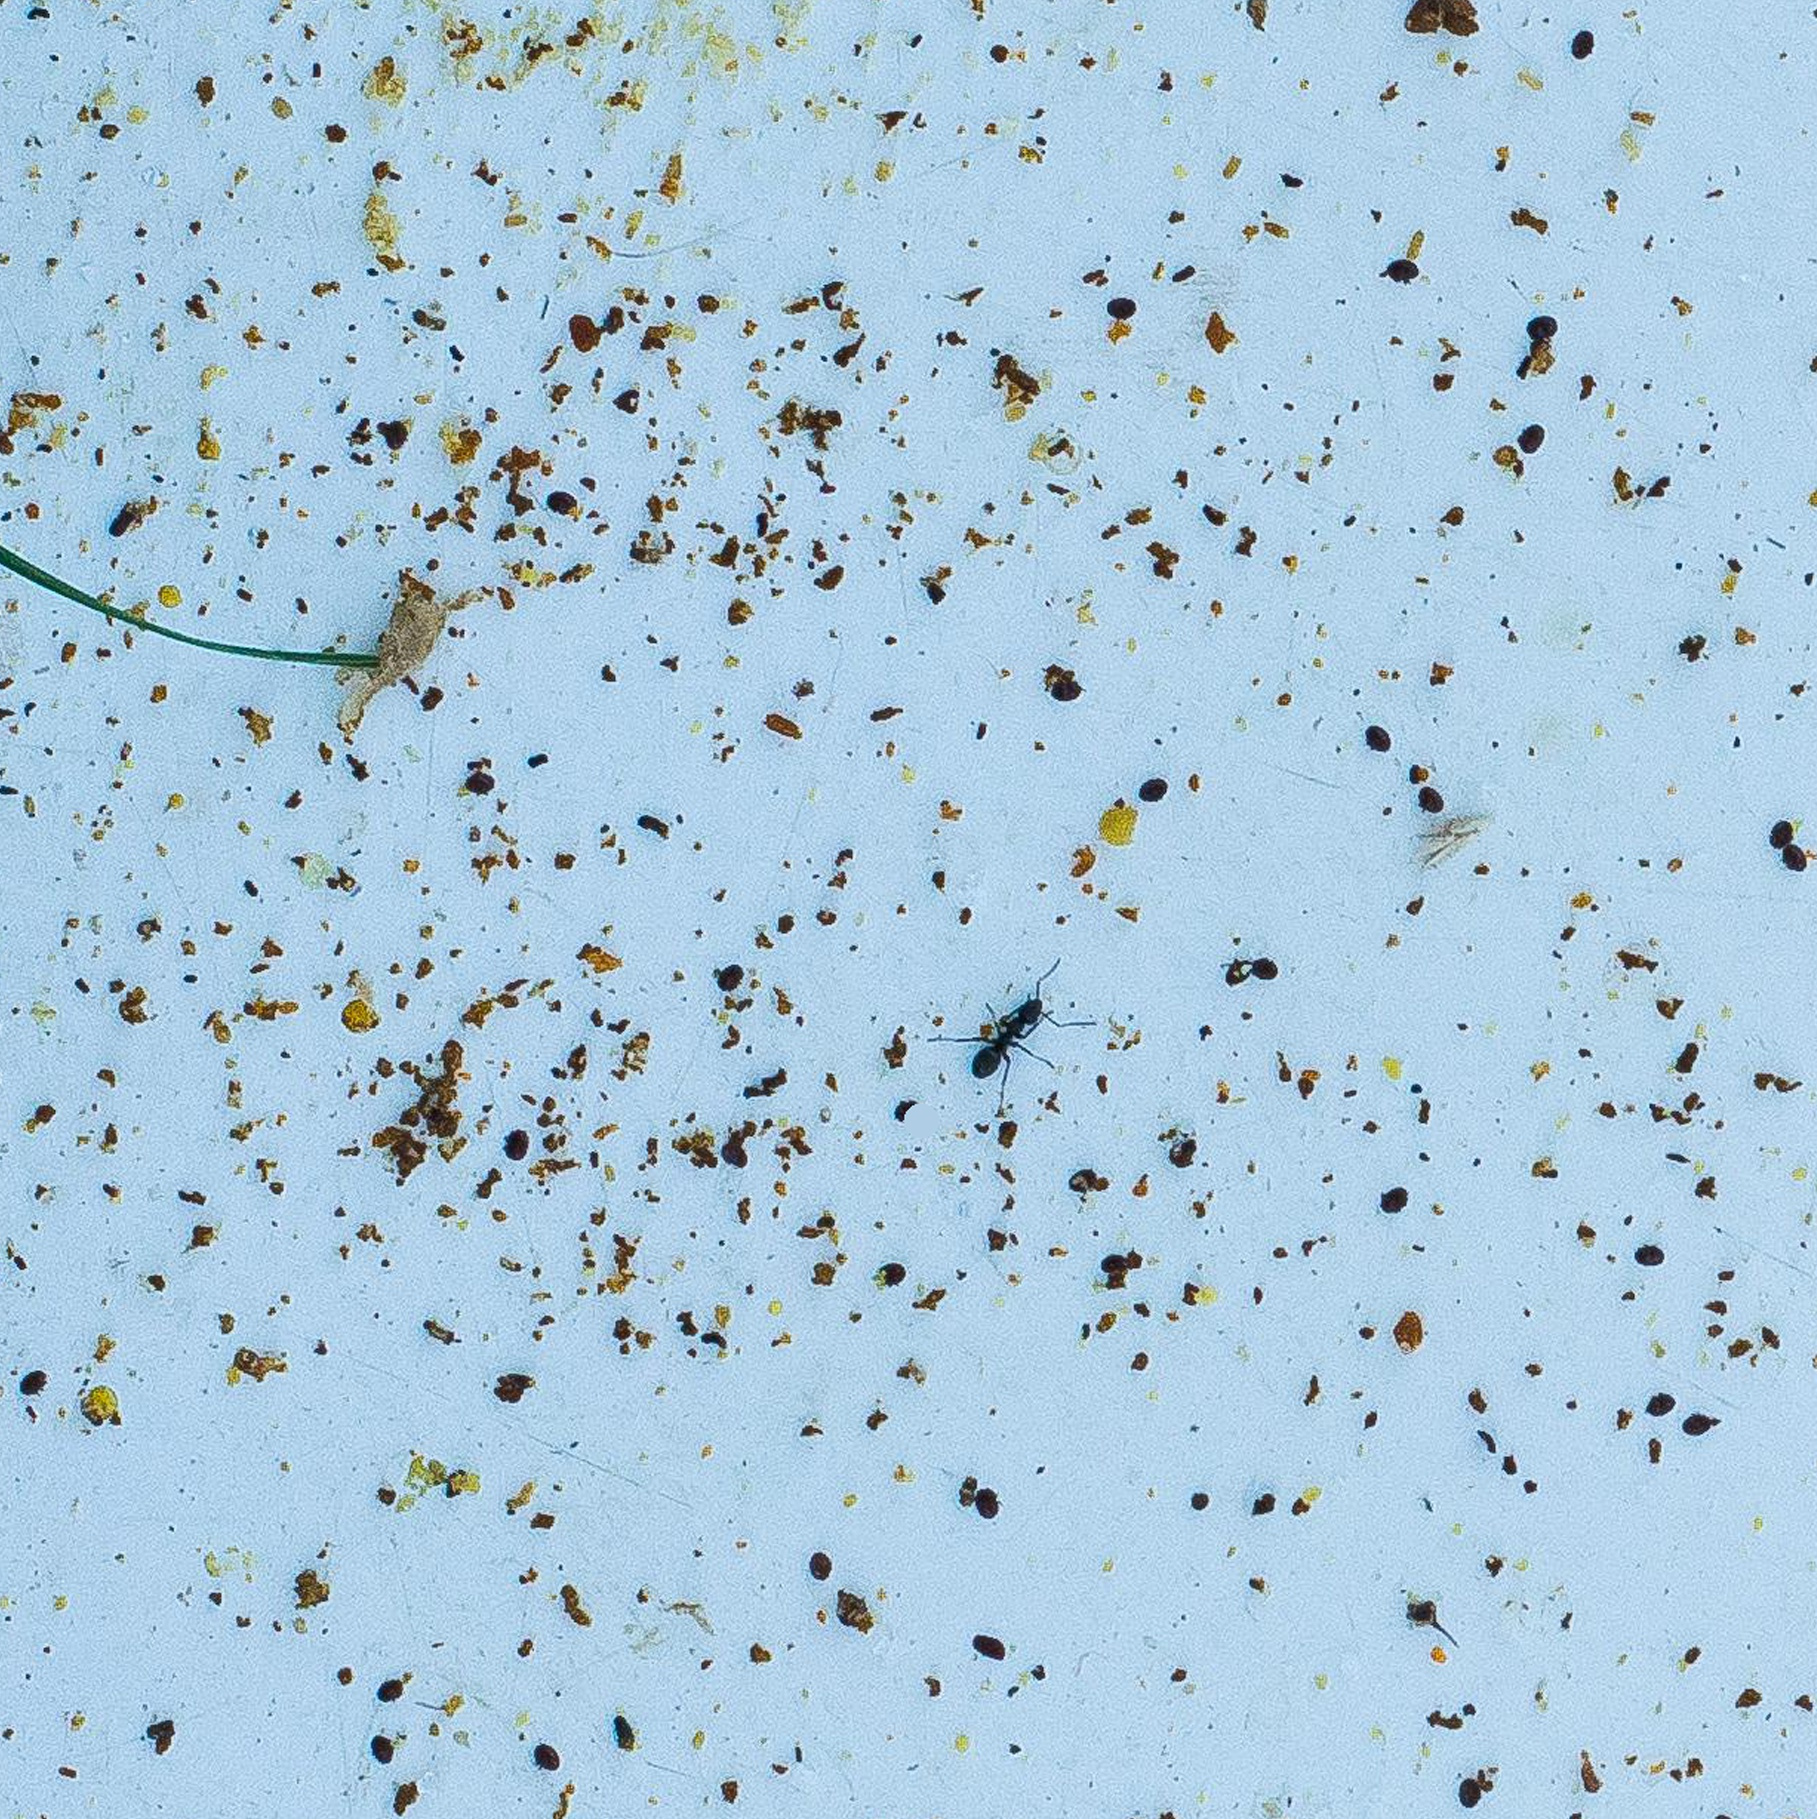Varroa: (458, 757, 503, 804), (1215, 949, 1260, 994), (714, 1132, 759, 1177), (1160, 1128, 1205, 1173), (1371, 1177, 1414, 1220), (1521, 316, 1557, 351), (710, 957, 745, 990), (1241, 950, 1275, 985), (1048, 671, 1082, 704), (1067, 1162, 1100, 1195), (879, 1255, 912, 1288), (373, 1669, 404, 1704), (1517, 423, 1551, 454), (890, 1093, 922, 1127), (544, 486, 576, 518), (1567, 30, 1599, 62), (1639, 1388, 1671, 1420), (1451, 1779, 1483, 1811), (1765, 815, 1795, 849), (1140, 771, 1170, 804), (503, 1130, 532, 1162), (972, 1486, 1002, 1518), (1384, 250, 1414, 281), (1414, 782, 1444, 814), (17, 1366, 47, 1396), (1363, 722, 1393, 752), (1682, 1411, 1712, 1441), (1098, 1248, 1128, 1278), (1775, 840, 1805, 870), (805, 1546, 834, 1578), (368, 1726, 396, 1754), (532, 1737, 561, 1764), (1108, 296, 1135, 325), (1634, 1240, 1661, 1266), (381, 1744, 408, 1769)
